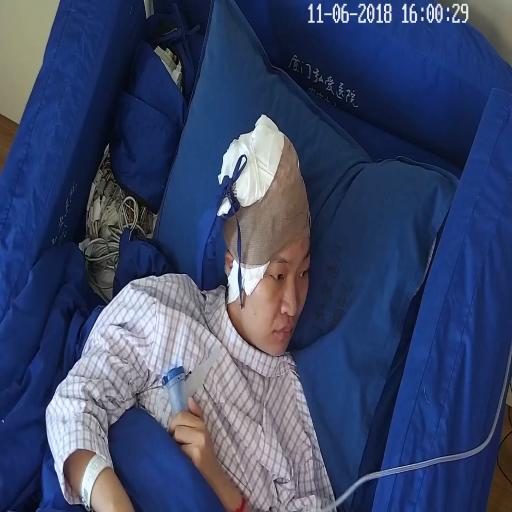Seizure: (215, 128, 313, 355)
